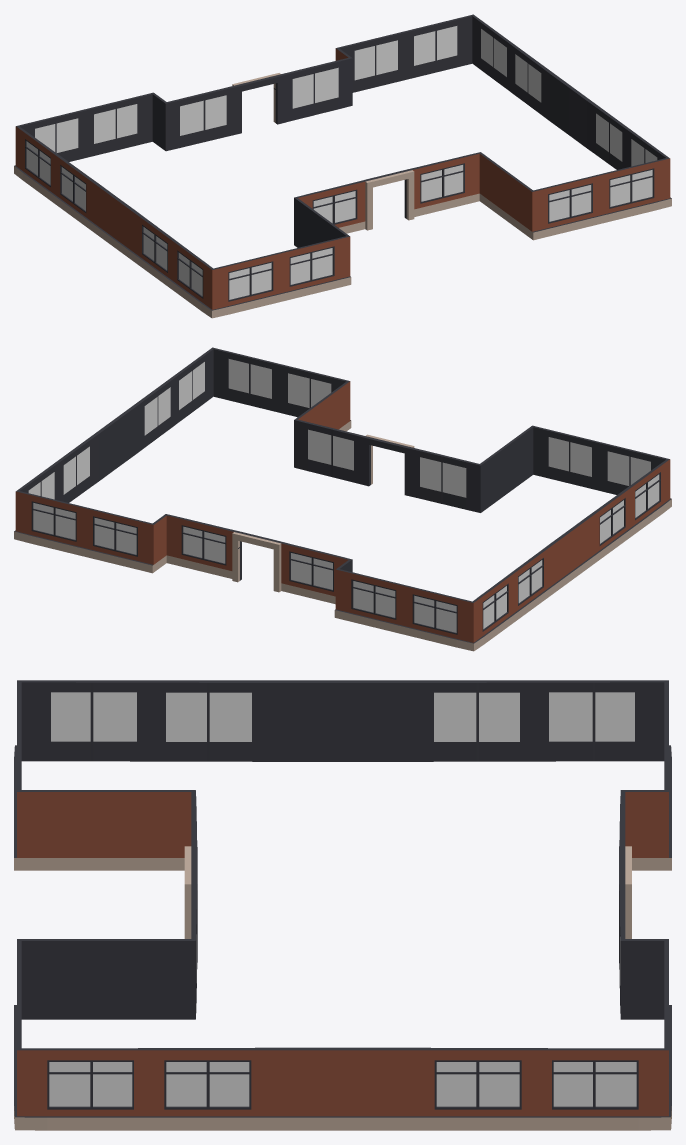
The model's file is Main_Block_FL1.fbx.
3 renders of one model, top to bottom at view 1: azimuth 30°, elevation 25°; view 2: azimuth 150°, elevation 25°; view 3: azimuth 270°, elevation 25°, orthographic. The views are drawn at different scales.
Parts seen in each view (by area): view 1: FL1.Exterior_Export; view 2: FL1.Exterior_Export; view 3: FL1.Exterior_Export.
Part boxes in pixels (<box>): FL1.Exterior_Export: <box>14,14,671,318</box>; FL1.Exterior_Export: <box>14,347,671,651</box>; FL1.Exterior_Export: <box>14,680,671,1130</box>.
Size of the model in its own units: 4053 by 400 by 3024.
